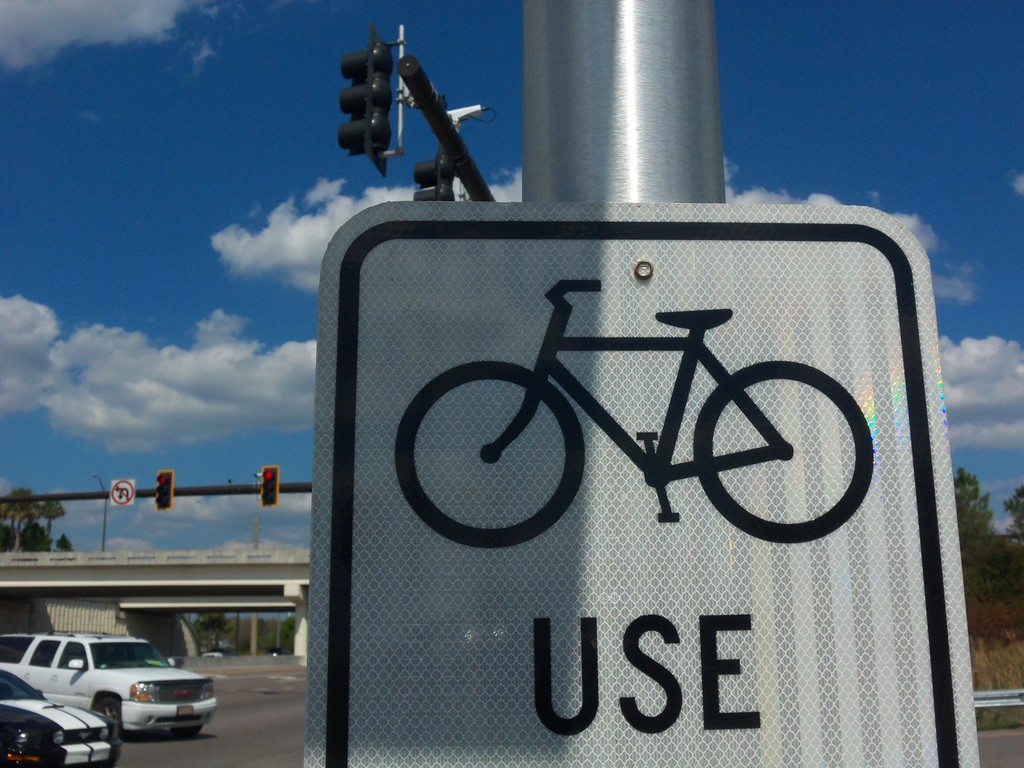cycle_route: (400, 262, 882, 564)
no_u_turn: (109, 479, 138, 507)
red_light: (156, 472, 170, 485), (261, 468, 274, 478)
